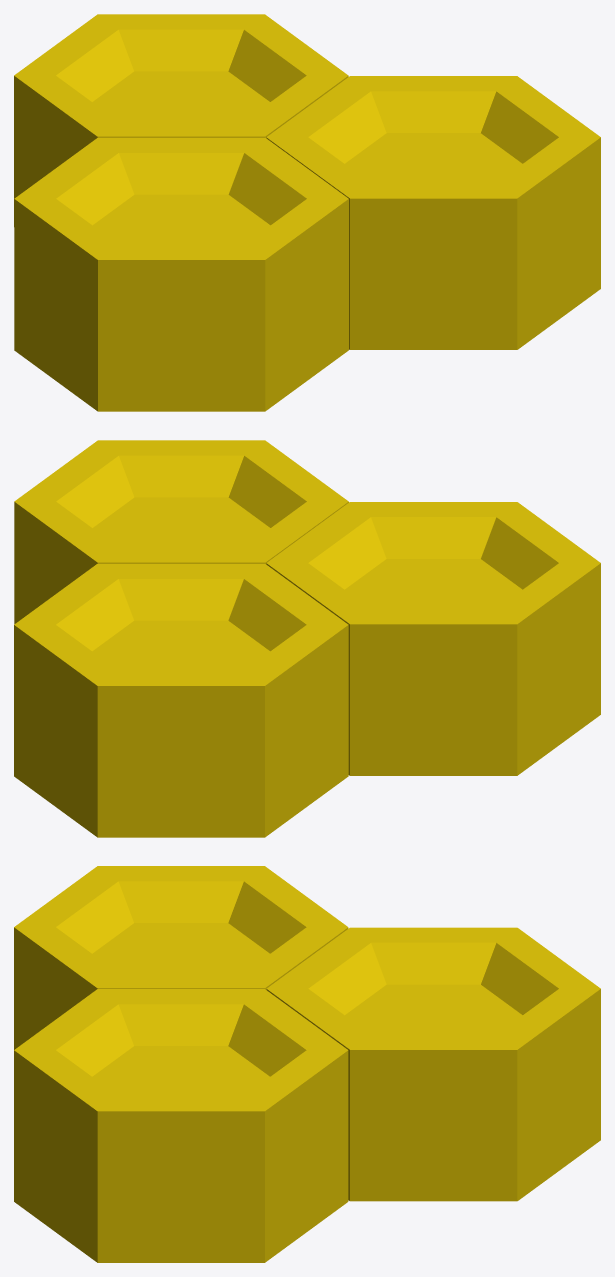
The model's file is button_base.glb.
3 renders of one model, top to bottom at view 1: azimuth 30°, elevation 25°; view 2: azimuth 150°, elevation 25°; view 3: azimuth 270°, elevation 25°, orthographic.
Visible parts, largest first — view 1: Cylinder; view 2: Cylinder; view 3: Cylinder.
Part boxes in pixels (x1,y1,x2,y2): Cylinder: (14,14,600,411); Cylinder: (14,440,600,837); Cylinder: (14,866,600,1262).
Bounding box in the file's own units: 1.91 × 0.55 × 1.93.
